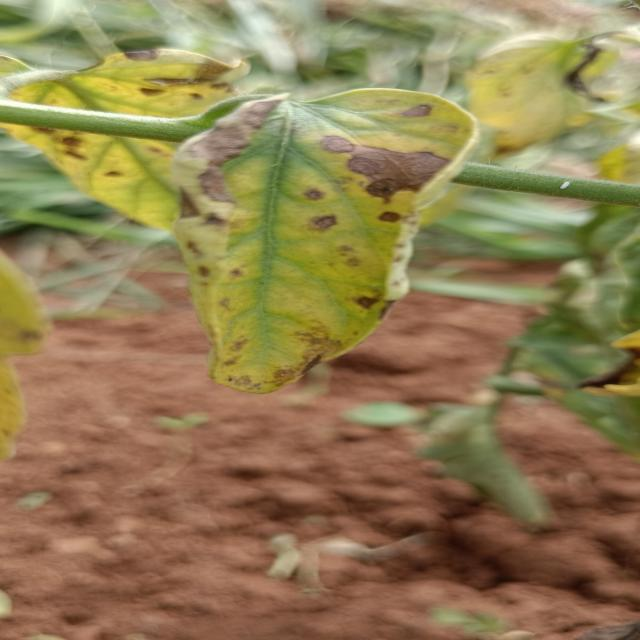tomato_early blight: (158, 85, 482, 401), (0, 48, 312, 235), (454, 30, 640, 161)
